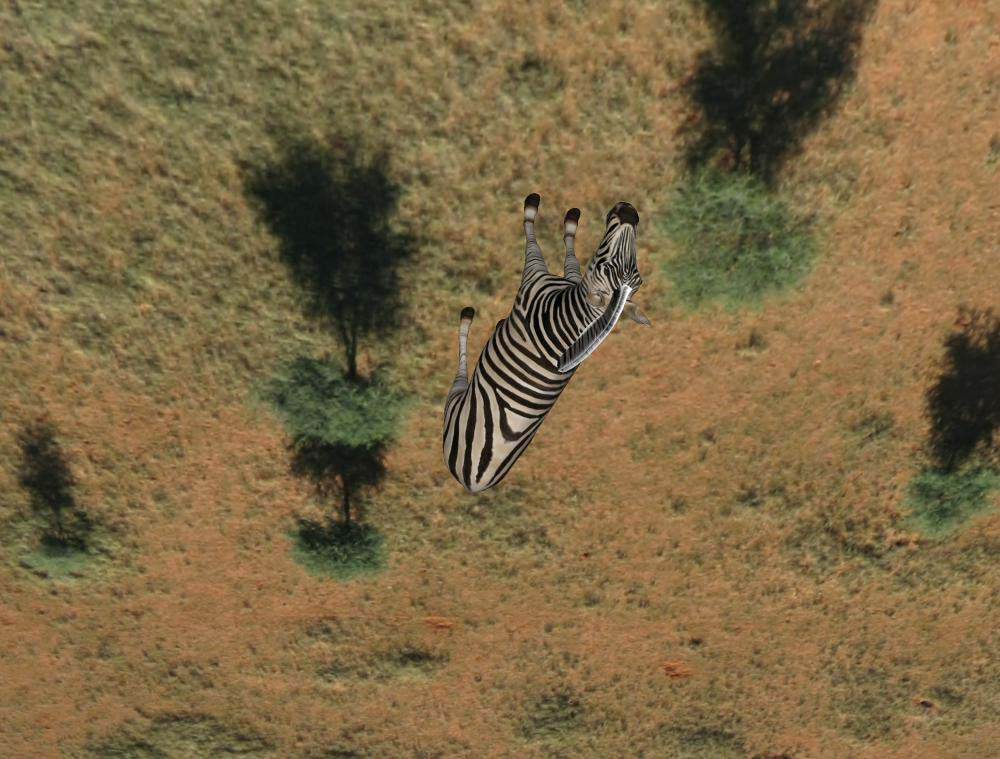zebra: (440, 188, 644, 518)
